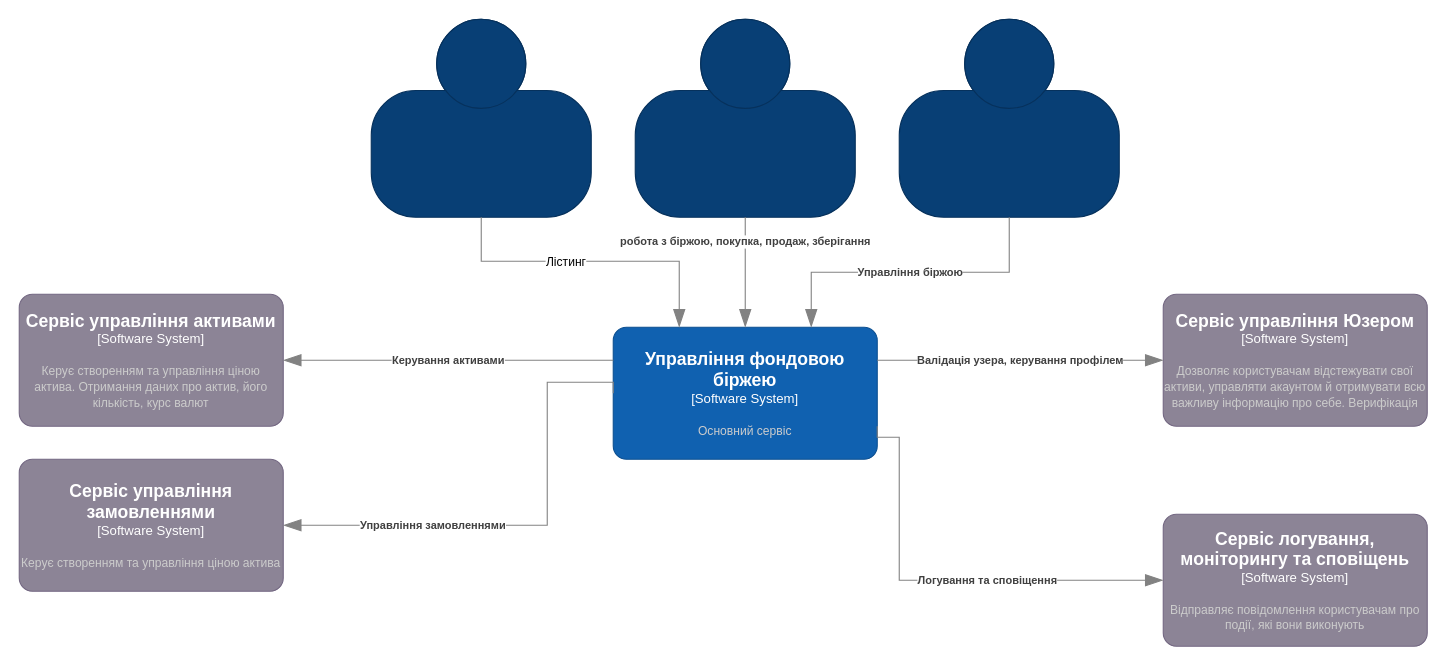
The diagram is 1447 pixels wide and 666 high, and some of its shapes have lost their labels. The shapes that lost their labels are listed below. From the top down, each one's box as (x1, y1, x2, y2) in pixels, then its label:
(370, 18, 591, 217): Компанія [Person]
(634, 18, 855, 217): Трейдер [Person]
(898, 18, 1119, 217): Адмін [Person]
